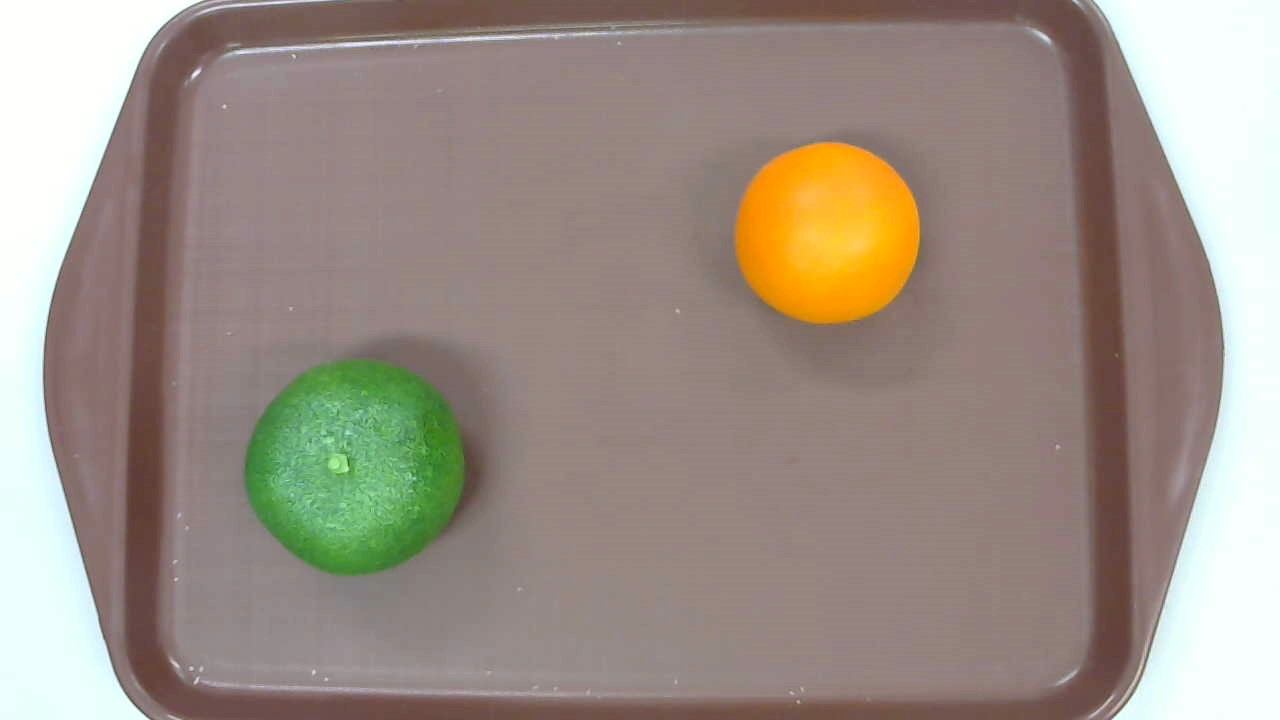bun: (735, 141, 919, 324)
green orange: (244, 357, 467, 576)
